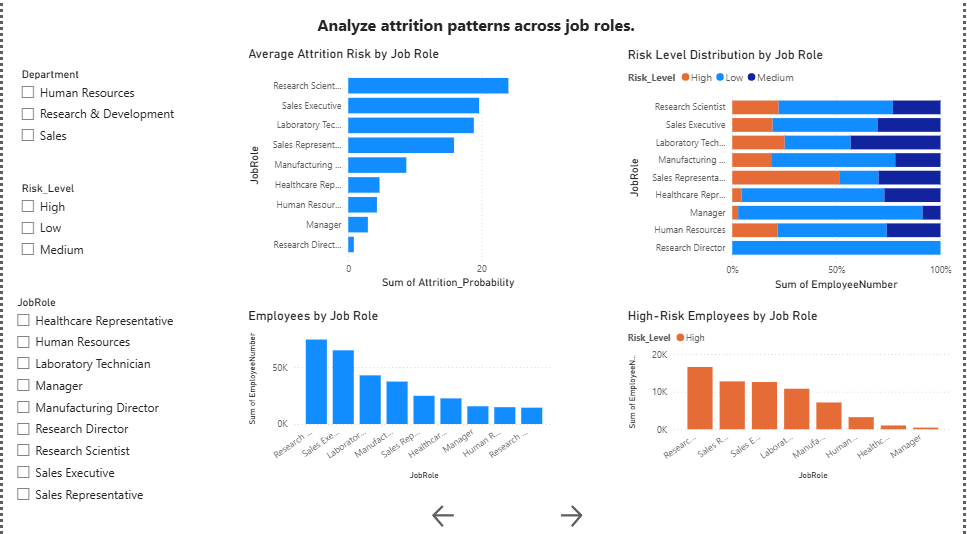

Layout of this report page (visuals, bound fields, positions):
{"tool":"powerbi","page":{"name":"Job Role Analytics","canvas":[1280,720],"ordinal":3},"visuals":[{"type":"slicer","fields":{"Values":["employee_attrition_risk_scores.Department"]},"box":[11.7,86.7,253.3,126.7],"z":0},{"type":"slicer","fields":{"Values":["employee_attrition_risk_scores.Risk_Level"]},"box":[11.7,238.3,140,121.7],"z":1000},{"type":"slicer","fields":{"Values":["employee_attrition_risk_scores.JobRole"]},"box":[6.7,390,265,300],"z":2000},{"type":"clusteredBarChart","title":"Average Attrition Risk by Job Role","fields":{"Category":["employee_attrition_risk_scores.JobRole"],"Y":["Sum(employee_attrition_risk_scores.Attrition_Probability)"]},"box":[321.7,61.7,416.7,328.3],"z":3000},{"type":"clusteredColumnChart","title":"Employees by Job Role","fields":{"Y":["Sum(employee_attrition_risk_scores.EmployeeNumber)"],"Category":["employee_attrition_risk_scores.JobRole"]},"box":[321.7,411.7,416.7,233.3],"z":4000},{"type":"clusteredColumnChart","title":"High-Risk Employees by Job Role","fields":{"Category":["employee_attrition_risk_scores.JobRole"],"Y":["Sum(employee_attrition_risk_scores.EmployeeNumber)"],"Series":["employee_attrition_risk_scores.Risk_Level"]},"box":[828.3,411.7,441.7,233.3],"z":5000},{"type":"hundredPercentStackedBarChart","title":"Risk Level Distribution by Job Role","fields":{"Category":["employee_attrition_risk_scores.JobRole"],"Series":["employee_attrition_risk_scores.Risk_Level"],"Y":["Sum(employee_attrition_risk_scores.EmployeeNumber)"]},"box":[828.3,63.3,441.7,328.3],"z":6000},{"type":"textbox","box":[413.3,13.3,453.3,43.3],"z":7000},{"type":"actionButton","box":[568.3,670.4,51.8,38.9],"z":8000},{"type":"actionButton","box":[738.4,670.4,50.2,38.9],"z":9000}]}

Visuals, with their boxes in screenshot pixels (x1, y1, x2, y2), scaled from the page's 1280x720 canvas onto the 967x534 screenshot:
slicer - employee_attrition_risk_scores.Department: (x1=9, y1=64, x2=200, y2=158)
slicer - employee_attrition_risk_scores.Risk_Level: (x1=9, y1=177, x2=115, y2=267)
slicer - employee_attrition_risk_scores.JobRole: (x1=5, y1=289, x2=205, y2=512)
"Average Attrition Risk by Job Role" clusteredBarChart: (x1=243, y1=46, x2=558, y2=289)
"Employees by Job Role" clusteredColumnChart: (x1=243, y1=305, x2=558, y2=478)
"High-Risk Employees by Job Role" clusteredColumnChart: (x1=626, y1=305, x2=959, y2=478)
"Risk Level Distribution by Job Role" hundredPercentStackedBarChart: (x1=626, y1=47, x2=959, y2=290)
textbox: (x1=312, y1=10, x2=655, y2=42)
actionButton: (x1=429, y1=497, x2=468, y2=526)
actionButton: (x1=558, y1=497, x2=596, y2=526)
